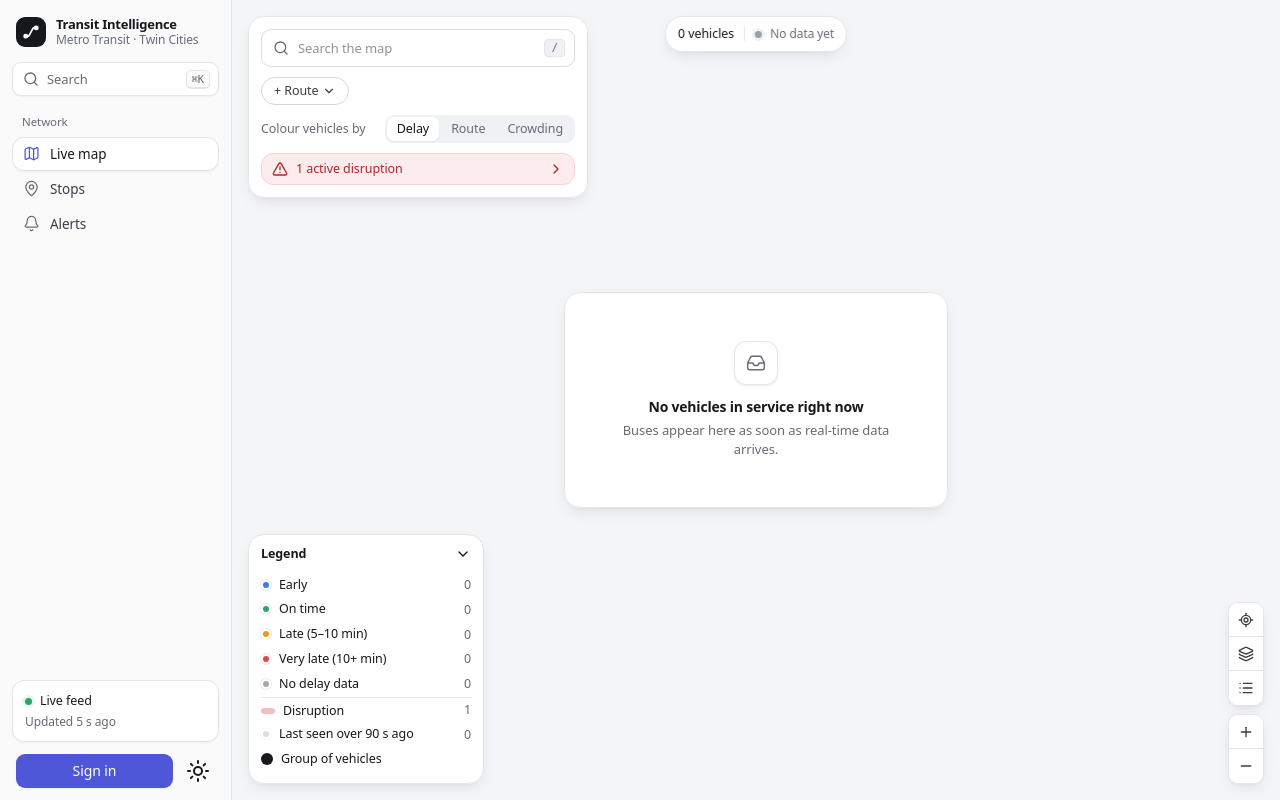
Scenario: search (⌘K) › says so when stops cannot be searched
Click the button "Search ⌘K".
click(116, 79)  # box [12,62,219,96]
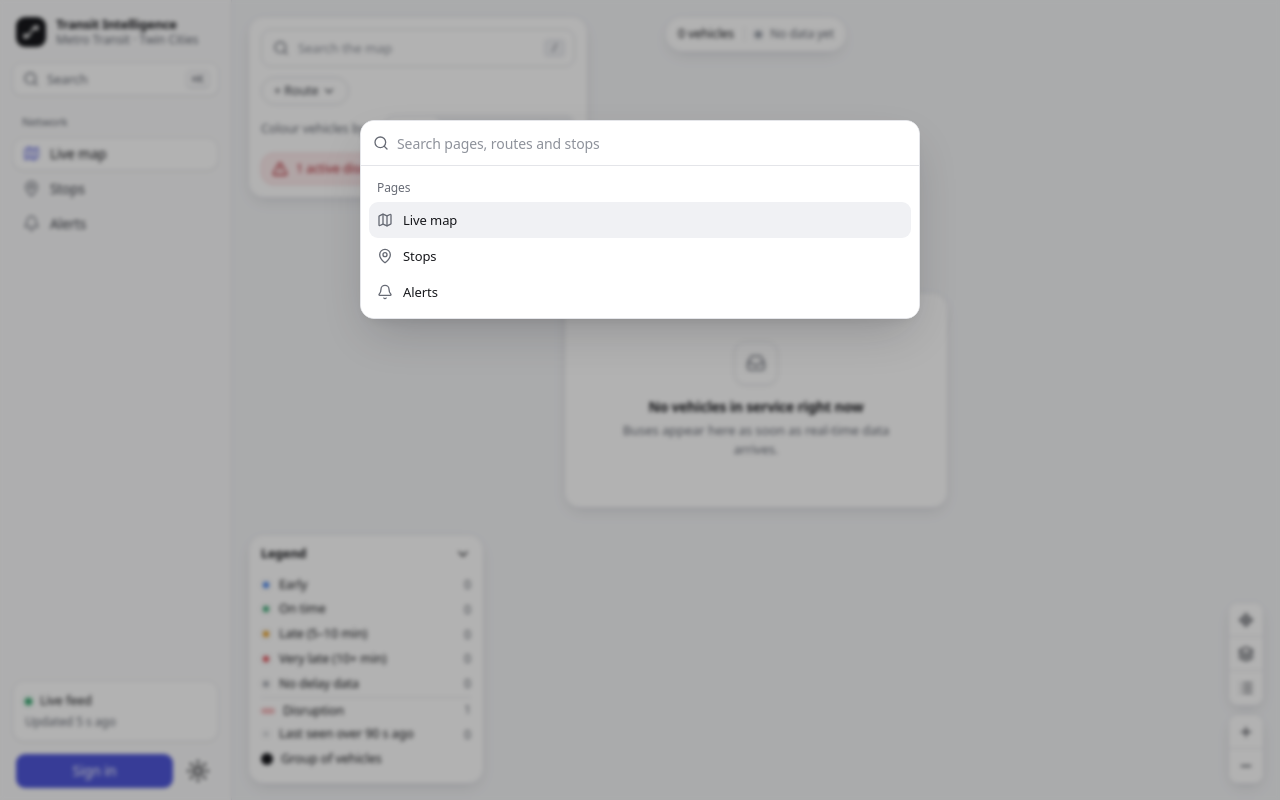
Type "zzz" into the dropdown with placeholder "Search pages, routes and stops".
click(652, 143); type("zzz")  # box [397,121,907,165]
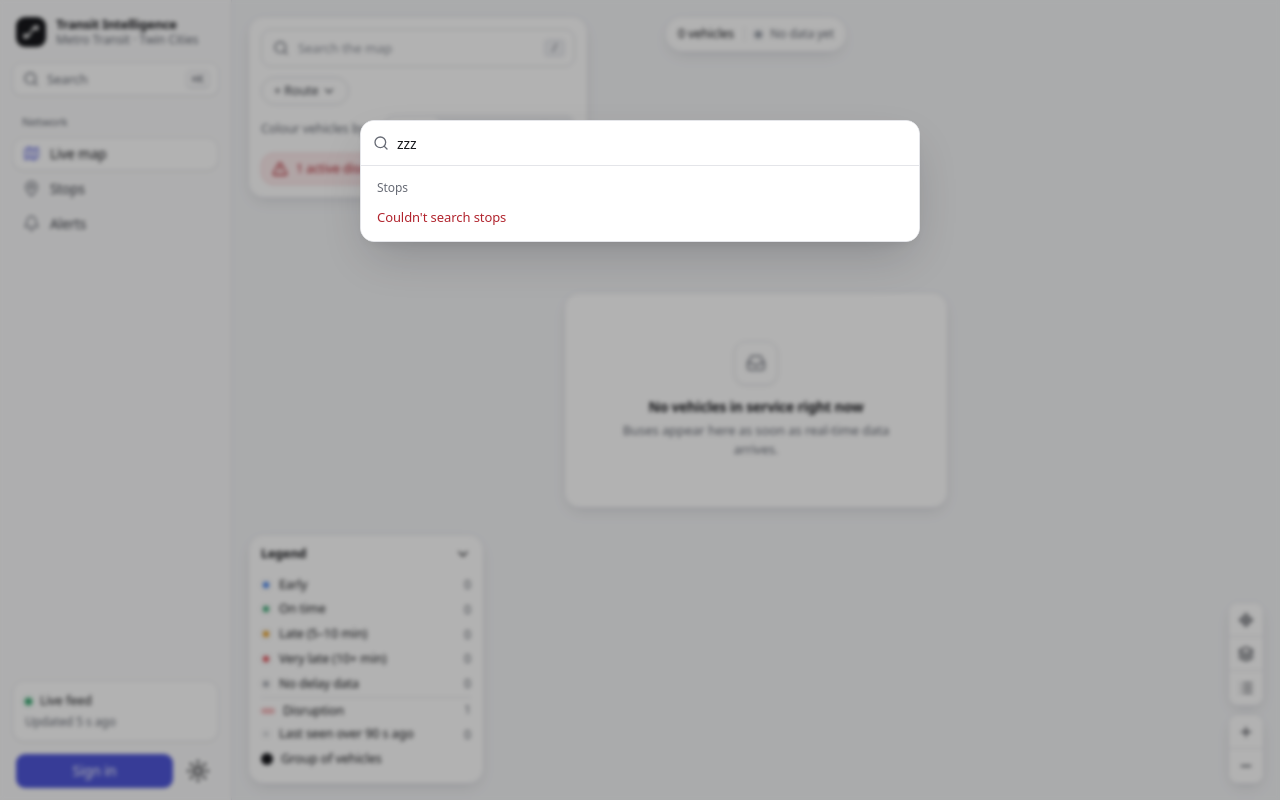
expect the text "Couldn't search stops" is shown: met, box [377,208,506,226]
